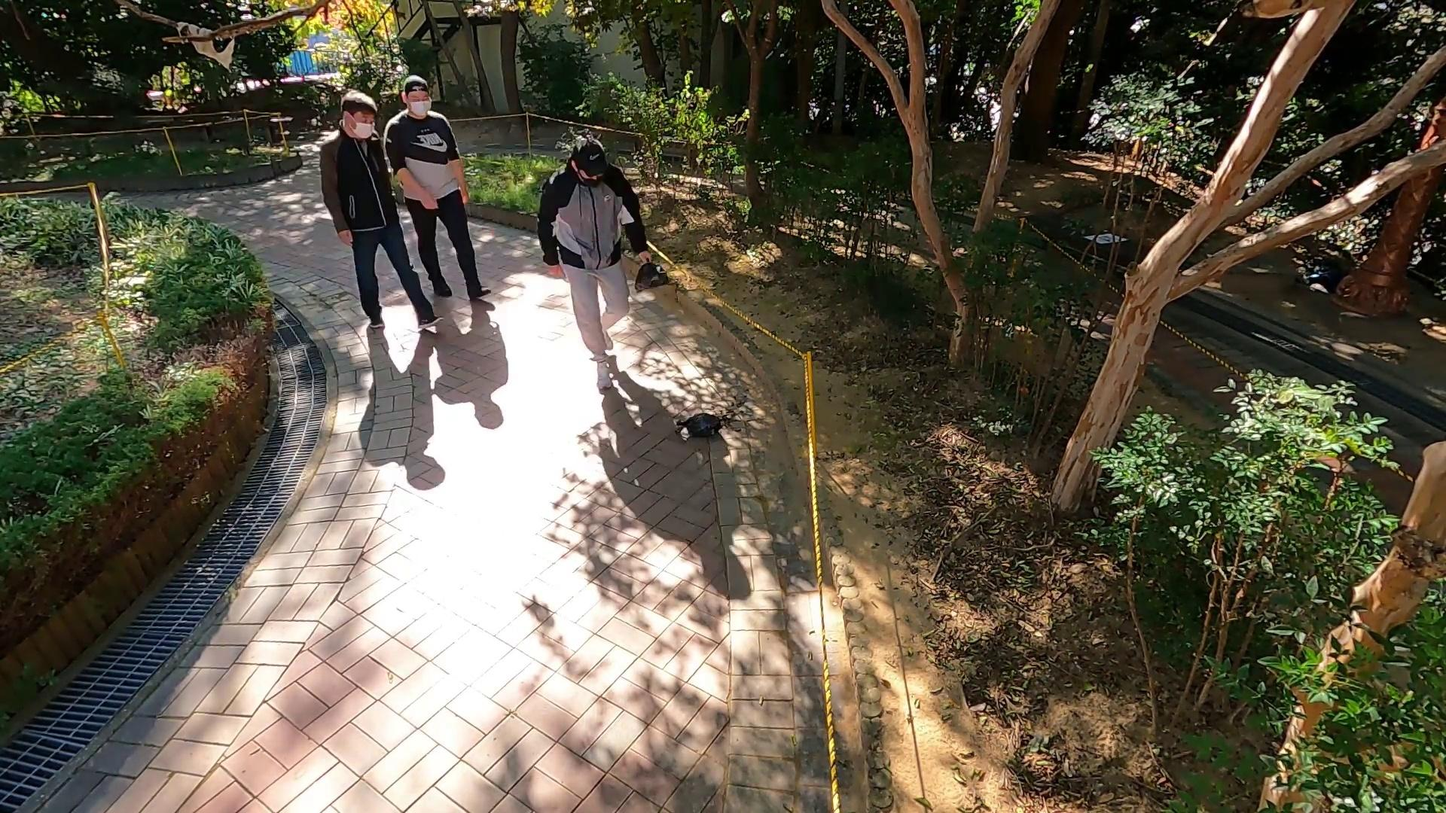person: (534, 134, 679, 391), (318, 83, 452, 340), (383, 72, 497, 302)
trash: (628, 249, 672, 291), (674, 415, 730, 446)
